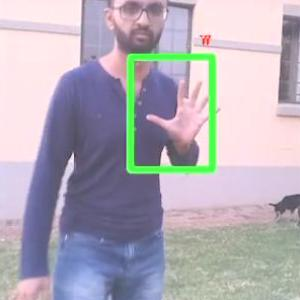follow_hand: (145, 74, 225, 148)
